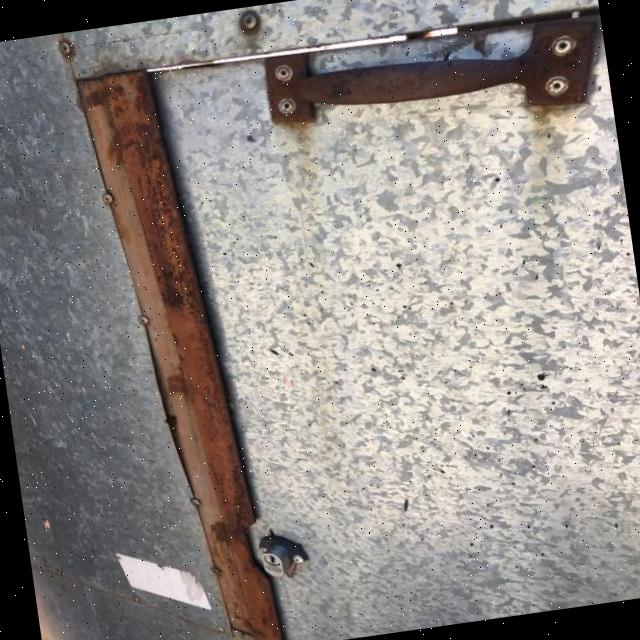Corrosion: (72, 58, 285, 640), (260, 8, 611, 147)
